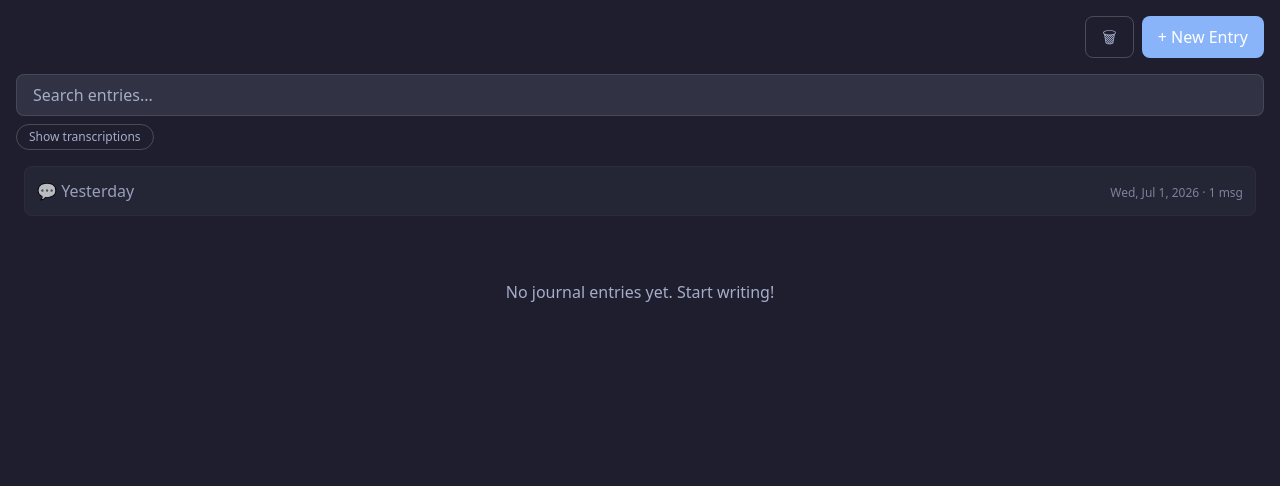
Scenario: a saved chat day in the journal feed › plays back the voice clip a message was spoken into
The width and height of the screenshot is (1280, 486).
Click the text "💬 Yesterday": (86, 191) [37,179,134,203]
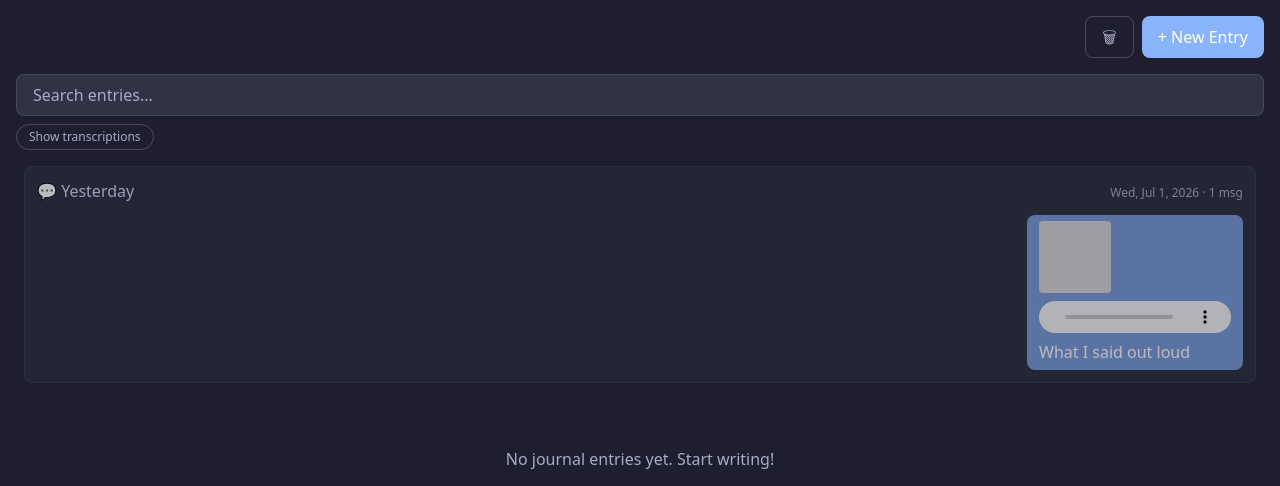
Expected: the text "What I said out loud" is shown, [1039,341,1190,363]
